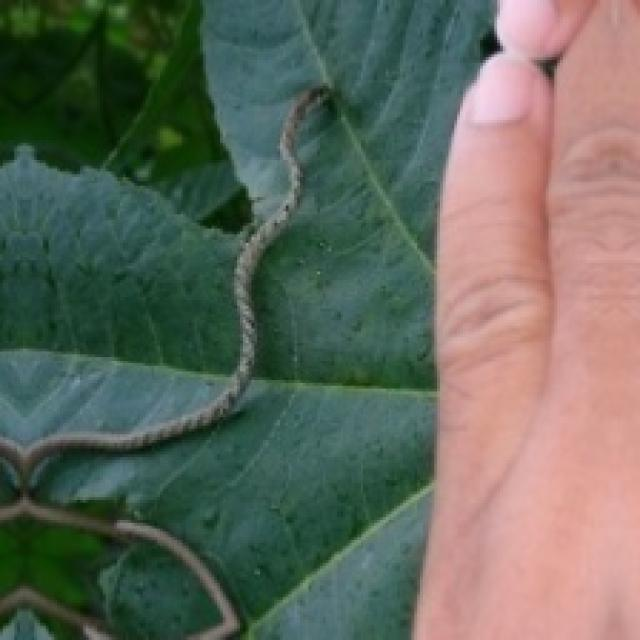philippine whip snake: (0, 86, 326, 637), (0, 86, 326, 494)
